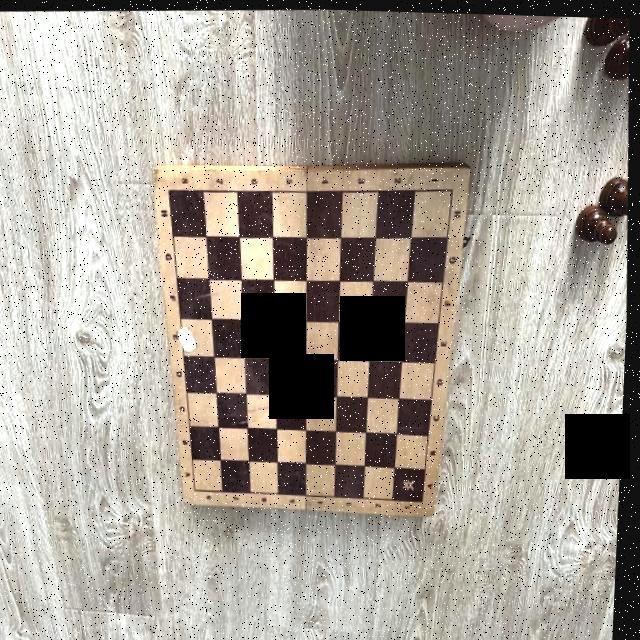chess-table-corners: (166, 185, 172, 193), (451, 183, 456, 192), (196, 485, 201, 492), (424, 496, 428, 502)
